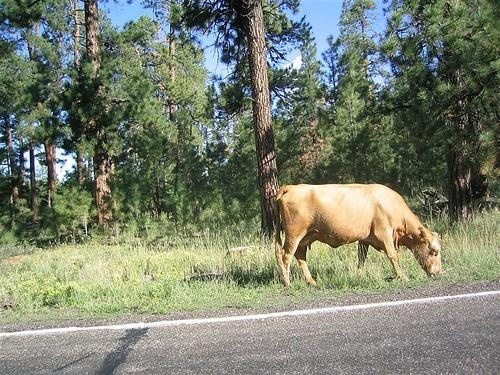cow: (274, 184, 444, 287)
